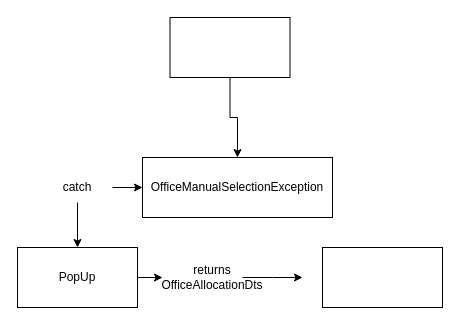
This 460x325 diagram has some shape labels left out. Here are the shapes that lost their labels. From the top down, the centre of each, then its label:
point 229,47: Merge Files
point 382,277: mergeRequestDts
